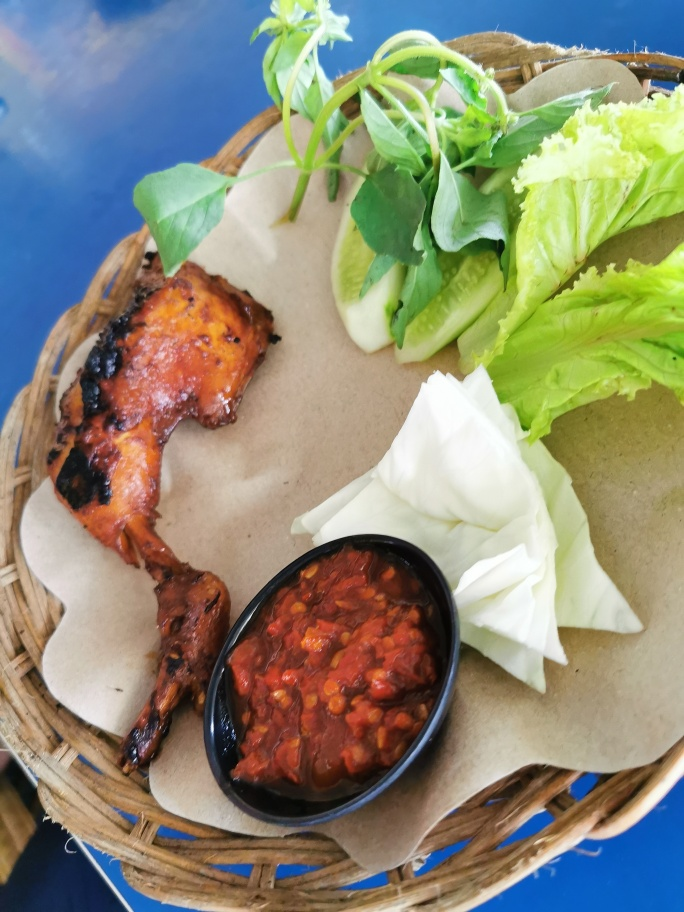ayam bakar: (42, 248, 270, 790)
